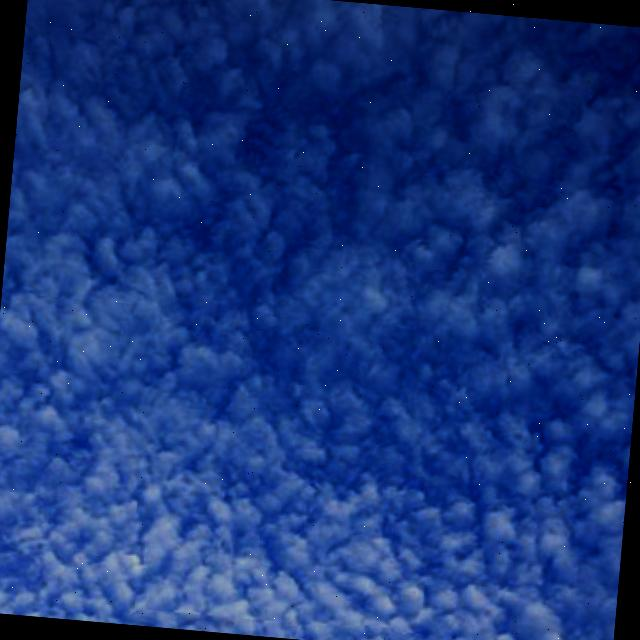Cc: (1, 80, 640, 607)
